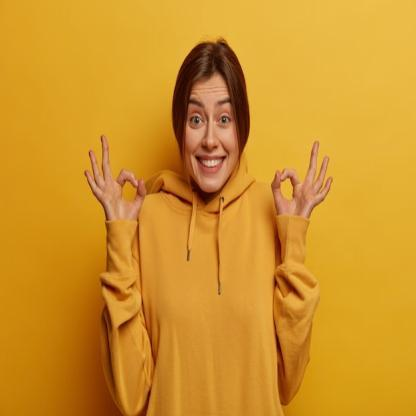ok: (82, 130, 150, 237), (270, 136, 335, 226)
